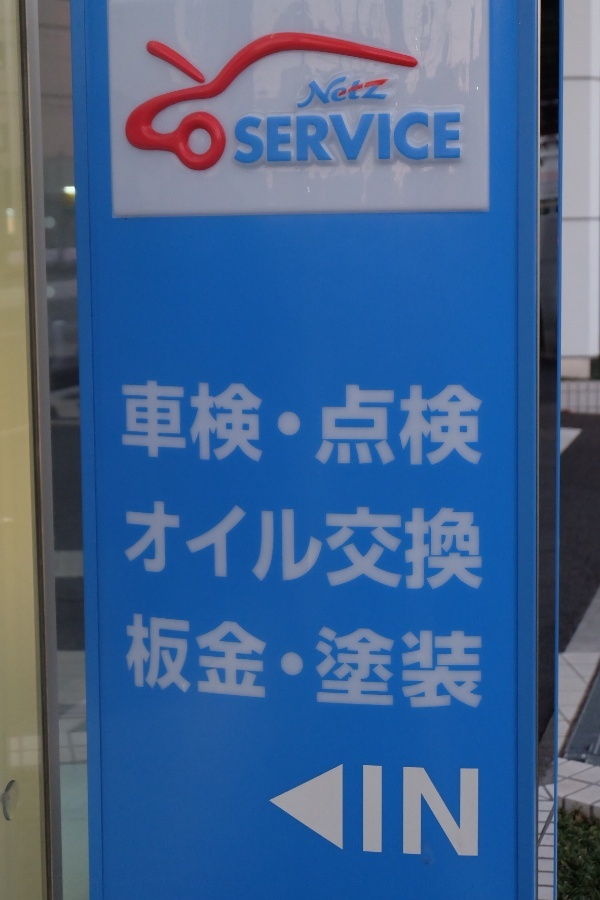text: (321, 617, 336, 715), (337, 617, 352, 715), (353, 617, 368, 715), (369, 617, 384, 715), (385, 617, 400, 715), (401, 617, 416, 715), (417, 617, 432, 715), (433, 617, 448, 715), (449, 617, 464, 715), (465, 617, 480, 715), (129, 498, 144, 596), (145, 498, 160, 596), (161, 498, 176, 596), (177, 498, 192, 596), (193, 498, 208, 596), (209, 498, 224, 596), (225, 498, 240, 596), (241, 498, 256, 596), (257, 498, 272, 596), (273, 498, 288, 596), (289, 498, 304, 596), (305, 498, 320, 596), (321, 498, 336, 596), (337, 498, 352, 596), (353, 498, 368, 596), (369, 498, 384, 596), (385, 498, 400, 596), (401, 498, 416, 596), (417, 498, 432, 596), (433, 498, 448, 596), (449, 498, 464, 596), (465, 498, 480, 596), (369, 766, 384, 858), (385, 766, 400, 858), (401, 766, 416, 858), (417, 766, 432, 858), (433, 766, 448, 858), (449, 766, 464, 858), (129, 614, 144, 701), (145, 614, 160, 701), (161, 614, 176, 701), (177, 614, 192, 701), (193, 614, 208, 701), (209, 614, 224, 701), (225, 614, 240, 701), (241, 614, 256, 701), (257, 614, 272, 701), (273, 614, 288, 701), (289, 614, 304, 701), (321, 382, 336, 467), (337, 382, 352, 467), (353, 382, 368, 467), (369, 382, 384, 467), (385, 382, 400, 467), (401, 382, 416, 467), (417, 382, 432, 467), (433, 382, 448, 467), (449, 382, 464, 467), (465, 382, 480, 467), (129, 381, 144, 462), (145, 381, 160, 462), (161, 381, 176, 462), (177, 381, 192, 462), (193, 381, 208, 462), (209, 381, 224, 462), (225, 381, 240, 462), (241, 381, 256, 462), (257, 381, 272, 462), (273, 381, 288, 462), (465, 766, 478, 858), (289, 381, 302, 462), (241, 113, 256, 164), (257, 113, 272, 164), (273, 113, 288, 164), (289, 113, 304, 164), (305, 113, 320, 164), (321, 113, 336, 164), (337, 113, 352, 164), (353, 113, 368, 164), (369, 113, 384, 164), (385, 113, 400, 164), (401, 113, 416, 164), (417, 113, 432, 164), (433, 113, 448, 164), (449, 113, 460, 164), (305, 75, 320, 109), (321, 75, 336, 109), (337, 75, 352, 109), (353, 75, 368, 109), (369, 75, 384, 109), (363, 766, 368, 858), (123, 381, 128, 462), (317, 617, 320, 715), (235, 113, 240, 164), (317, 382, 320, 467), (297, 75, 304, 109), (481, 617, 483, 715), (126, 614, 128, 701), (385, 75, 390, 109), (127, 498, 128, 596), (481, 498, 482, 596), (481, 382, 482, 467)
